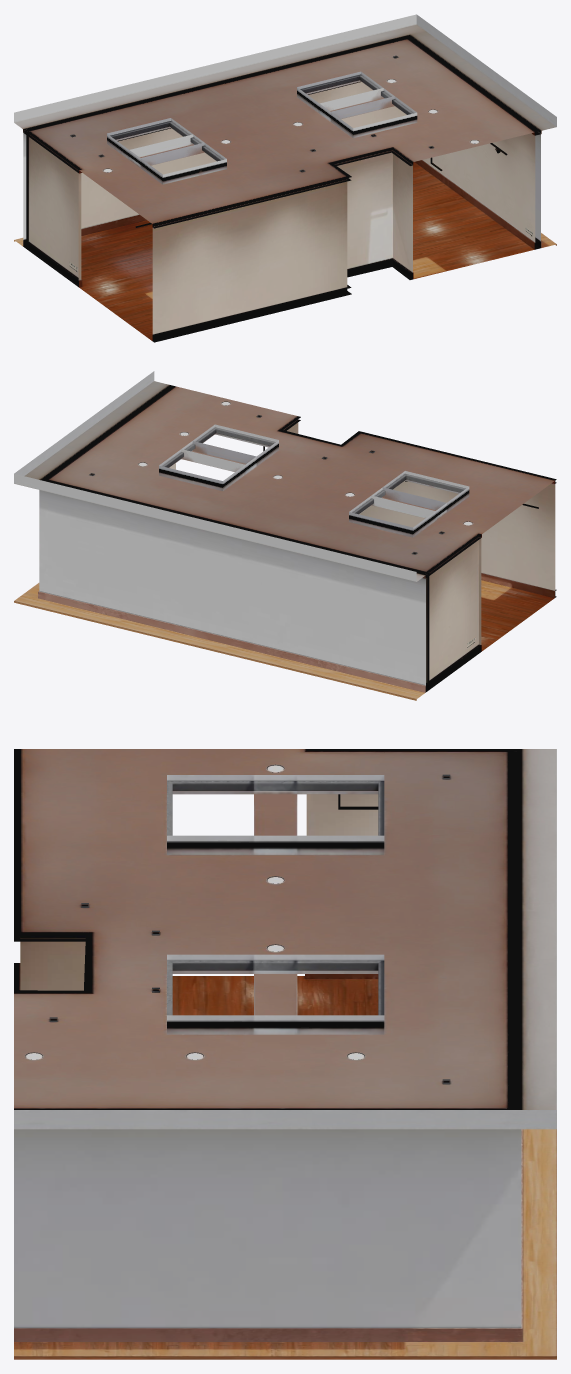
File: room_6.glb
3 renders of one model, top to bottom at view 1: azimuth 30°, elevation 25°; view 2: azimuth 150°, elevation 25°; view 3: azimuth 270°, elevation 25°, orthographic. The views are drawn at different scales.
Parts seen in each view (by area): view 1: room_6; view 2: room_6; view 3: room_6.
Boxes of the visible parts, x1=… form: room_6: x1=14, y1=14, x2=556, y2=342; room_6: x1=14, y1=371, x2=556, y2=700; room_6: x1=14, y1=749, x2=556, y2=1359.
Size of the model in its own units: 12.58 by 3.85 by 7.59.
2 materials, 2 textured.
